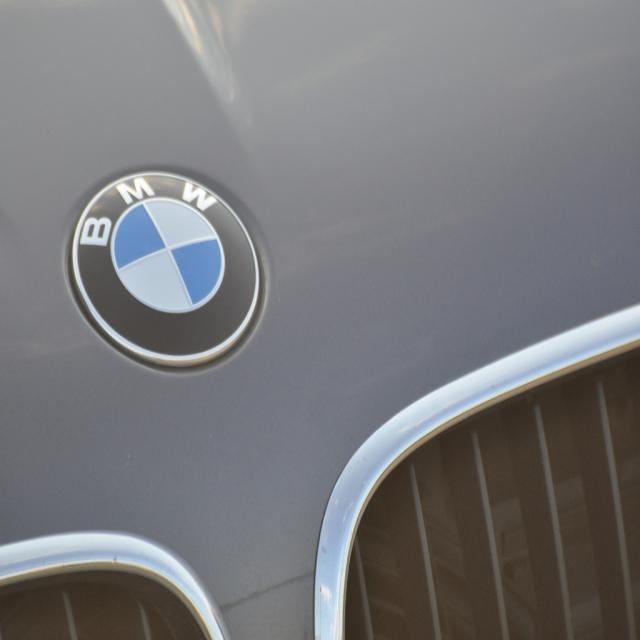bmw: (65, 164, 270, 377)
